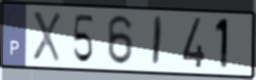1: (212, 17, 230, 73)
4: (180, 16, 207, 71)
5: (71, 13, 95, 64)
6: (105, 13, 135, 67)
I: (150, 15, 165, 69)
X: (31, 9, 63, 64)
